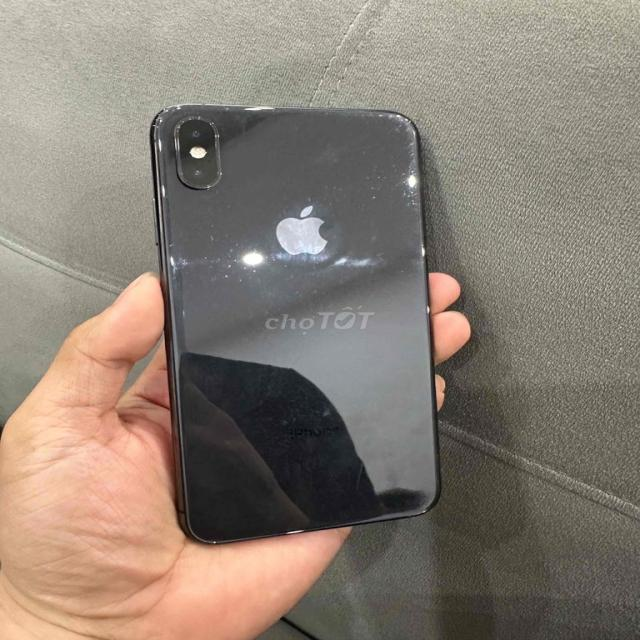gen_x_xs: (117, 84, 474, 548)
scratch: (362, 106, 432, 216), (193, 234, 266, 308), (184, 178, 246, 220), (282, 266, 338, 312), (161, 241, 200, 288), (300, 181, 348, 217), (148, 95, 184, 139), (180, 108, 224, 142), (312, 104, 368, 126), (212, 98, 284, 115), (275, 518, 309, 539), (203, 530, 236, 549), (419, 233, 435, 266), (414, 298, 434, 324), (210, 164, 230, 188), (170, 307, 199, 322), (413, 500, 428, 520)
